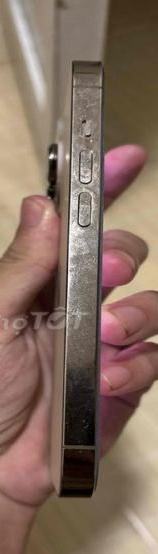scratch: (70, 74, 101, 235), (70, 251, 96, 327), (72, 414, 107, 463)
